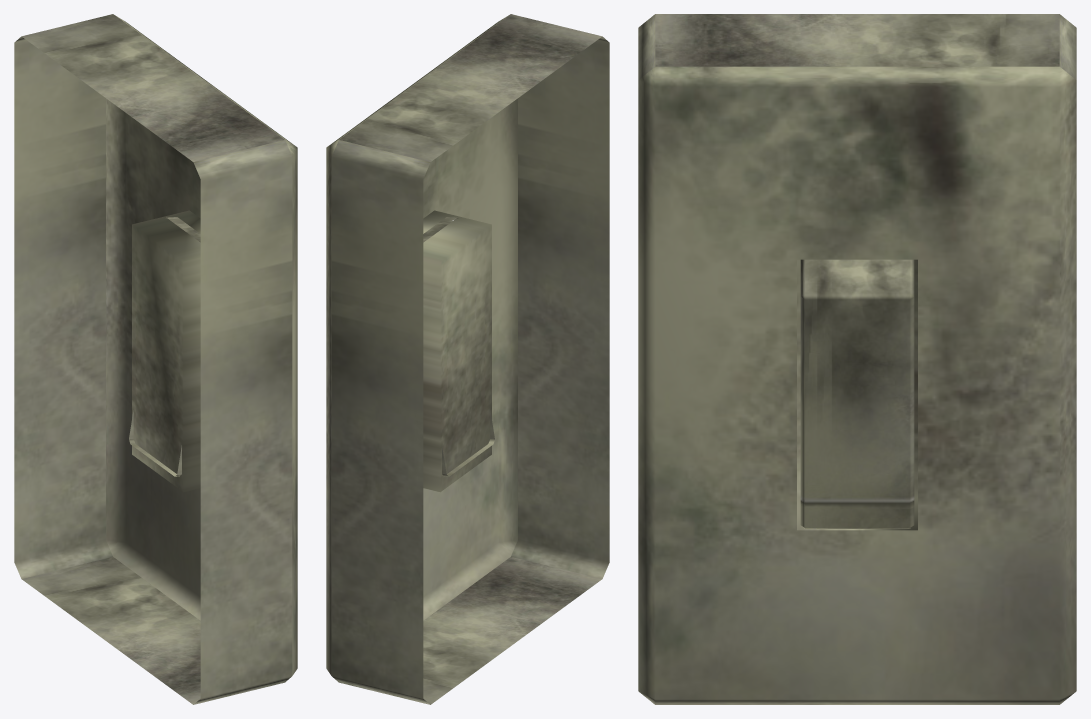
File: lightSwitch.fbx
3 views of the same model, side by side, from view 1: azimuth 30°, elevation 25°; view 2: azimuth 150°, elevation 25°; view 3: azimuth 270°, elevation 25° (orthographic). The views are drawn at different scales.
Visible parts, largest first — view 1: polySurface1946; view 2: polySurface1946; view 3: polySurface1946.
Part boxes in pixels (<box>): polySurface1946: <box>14,14,297,704</box>; polySurface1946: <box>326,14,609,704</box>; polySurface1946: <box>638,14,1076,704</box>.
Size of the model in its own units: 5.5 by 19.11 by 11.9.
